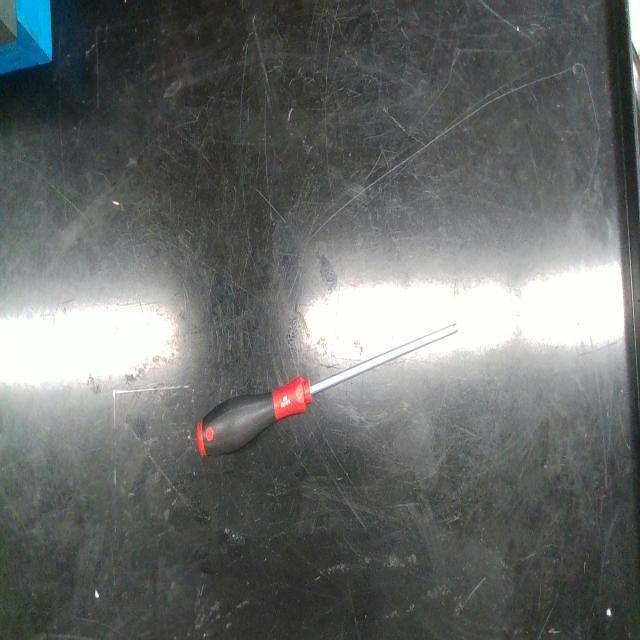Screwdriver: (198, 324, 458, 457)
